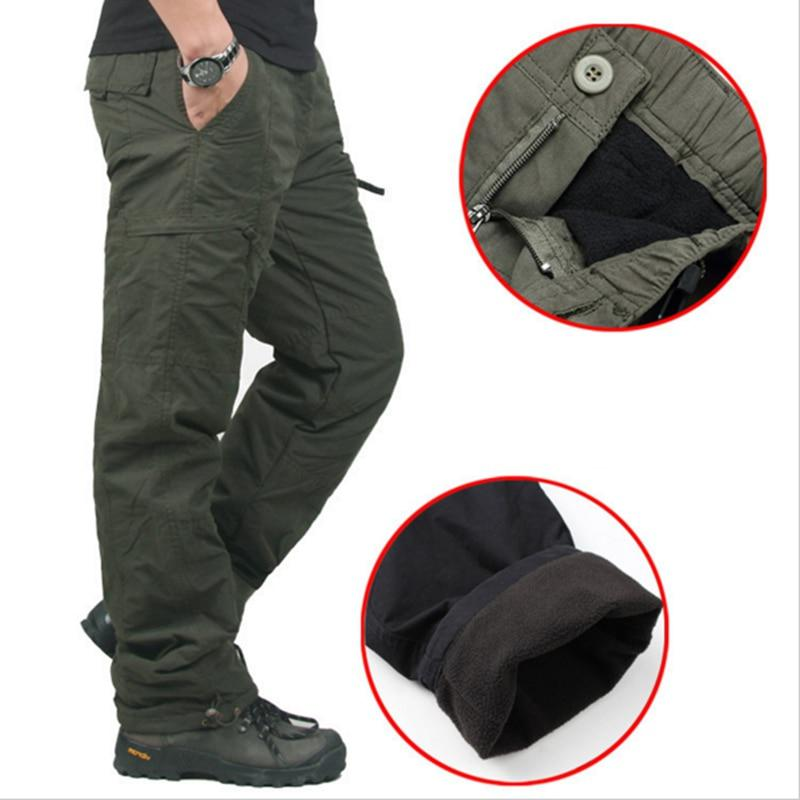pants: (77, 50, 399, 706)
